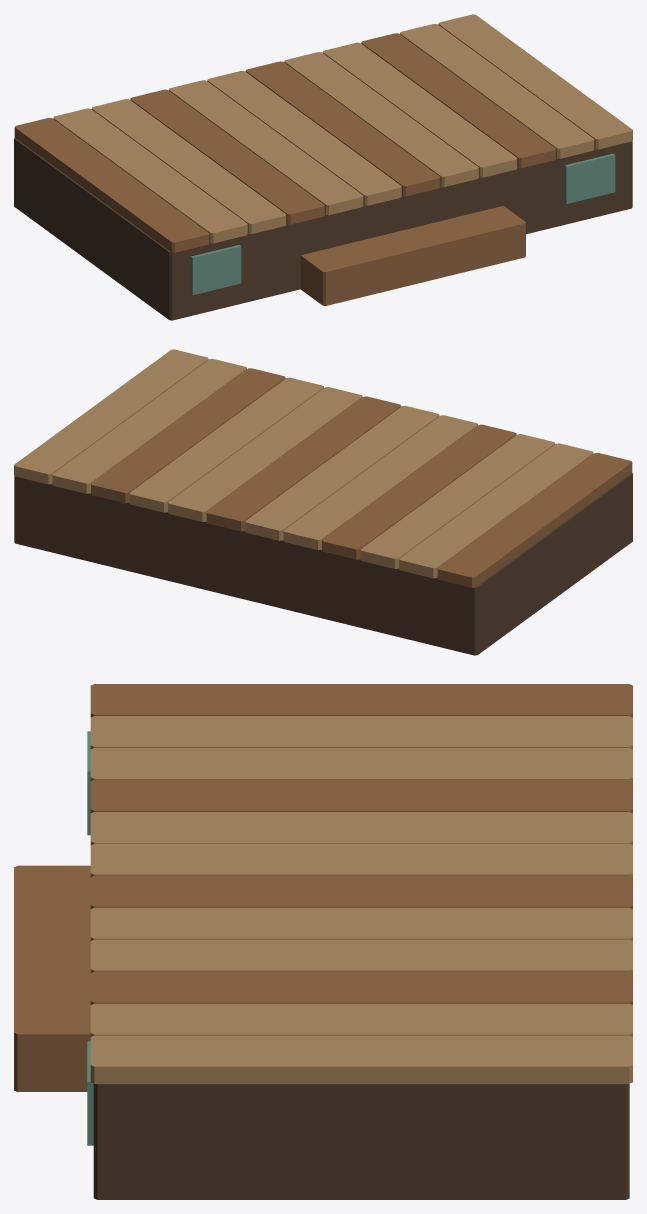
The model's file is stage_small.glb.
3 views of the same model, one above another, from view 1: azimuth 30°, elevation 25°; view 2: azimuth 150°, elevation 25°; view 3: azimuth 270°, elevation 25° (orthographic). The views are drawn at different scales.
Visible parts, largest first — view 1: geometry; view 2: geometry; view 3: geometry.
Boxes of the visible parts, box(x1,y1,x2,y2) form: geometry: box(14, 14, 632, 320); geometry: box(14, 349, 632, 655); geometry: box(14, 684, 632, 1199).
Bounding box in the file's own units: 2.85 × 0.46 × 1.94.
